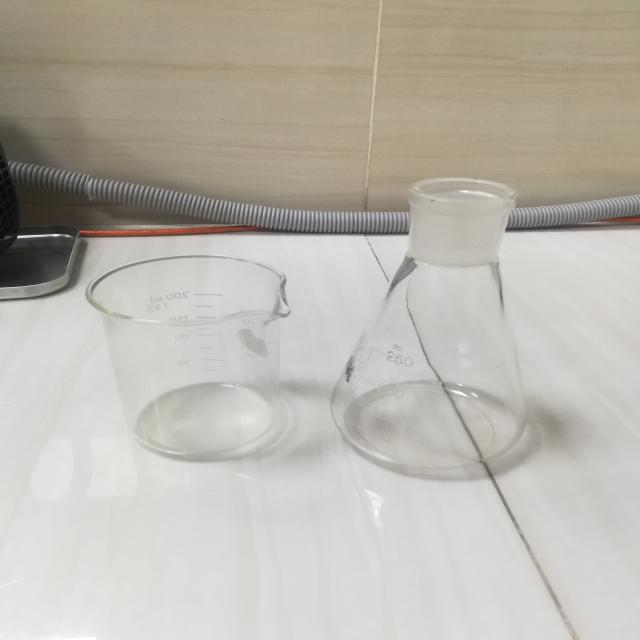Beaker: (59, 221, 318, 488)
Conical_Flask: (336, 162, 559, 496)
